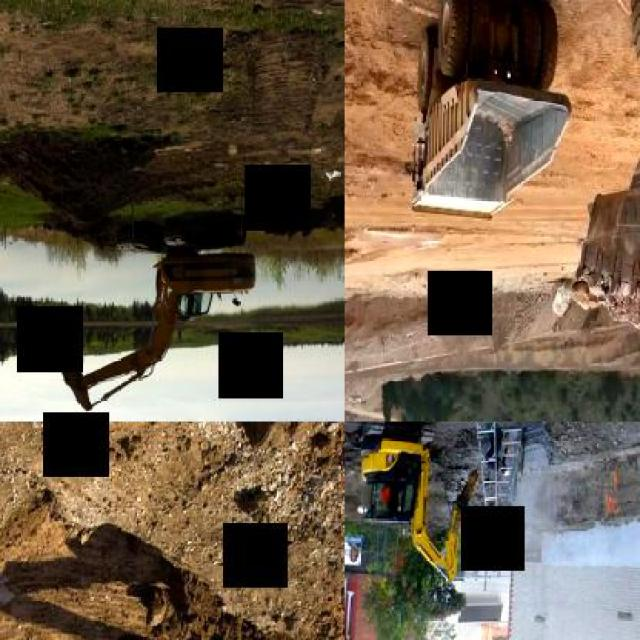buldozerpayloadergrader: (574, 0, 638, 351)
dump_truck: (407, 0, 575, 232)
excavator: (14, 217, 254, 411), (351, 422, 478, 584)
